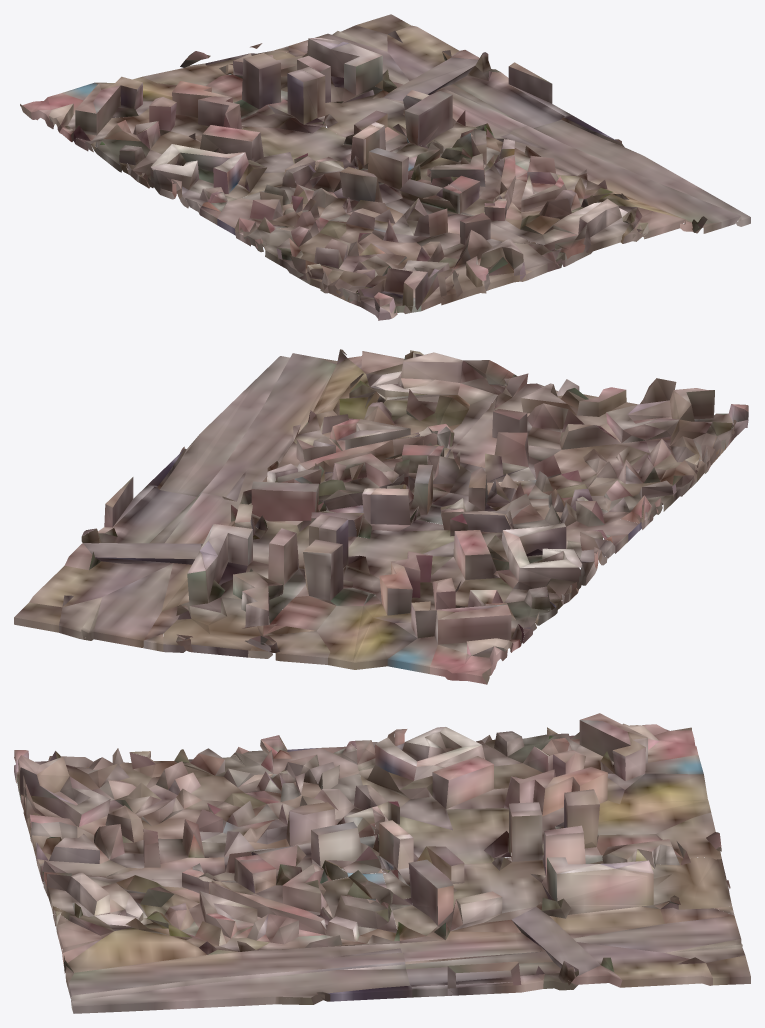
3 renders of one model, top to bottom at view 1: azimuth 30°, elevation 25°; view 2: azimuth 150°, elevation 25°; view 3: azimuth 270°, elevation 25°, orthographic. The views are drawn at different scales.
Parts seen in each view (by area): view 1: Mesh_0; view 2: Mesh_0; view 3: Mesh_0.
Boxes of the visible parts, x1,y1,x2,y2 form: Mesh_0: (20, 14, 750, 320); Mesh_0: (14, 349, 748, 684); Mesh_0: (14, 713, 750, 1013).
Size of the model in its own units: 540 by 76.37 by 659.
2 materials, 2 textured.
